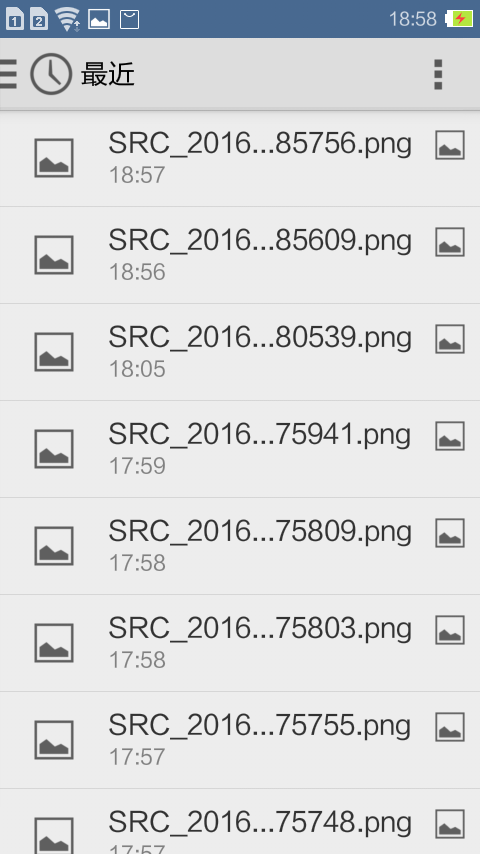textview: (6, 114, 479, 697)
